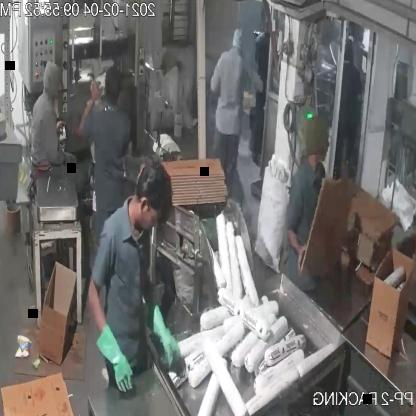glove: (90, 322, 137, 401), (140, 296, 187, 371)
no_glove: (71, 70, 105, 158), (275, 218, 322, 272)
